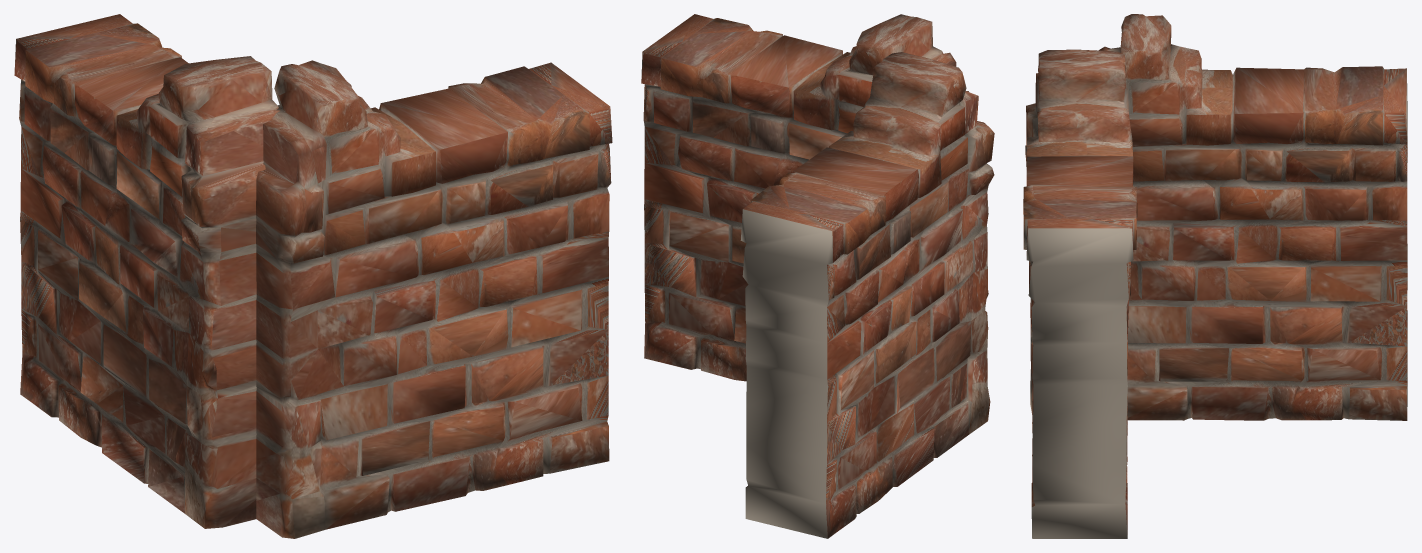
Rendered from broken-red-brick-wall-corner-90.glb.
The picture shows the model from 3 angles, left to right: view 1: azimuth 30°, elevation 25°; view 2: azimuth 150°, elevation 25°; view 3: azimuth 270°, elevation 25°; orthographic projection. The views are drawn at different scales.
Parts seen in each view (by area): view 1: broken-red-brick-wall-corner-90; view 2: broken-red-brick-wall-corner-90; view 3: broken-red-brick-wall-corner-90.
Boxes of the visible parts, x1,y1,x2,y2 form: broken-red-brick-wall-corner-90: [14, 14, 612, 538]; broken-red-brick-wall-corner-90: [641, 14, 994, 538]; broken-red-brick-wall-corner-90: [1023, 14, 1407, 538].
Bounding box in the file's own units: 1.18 × 1.25 × 1.17.
2 materials, 1 textured.
